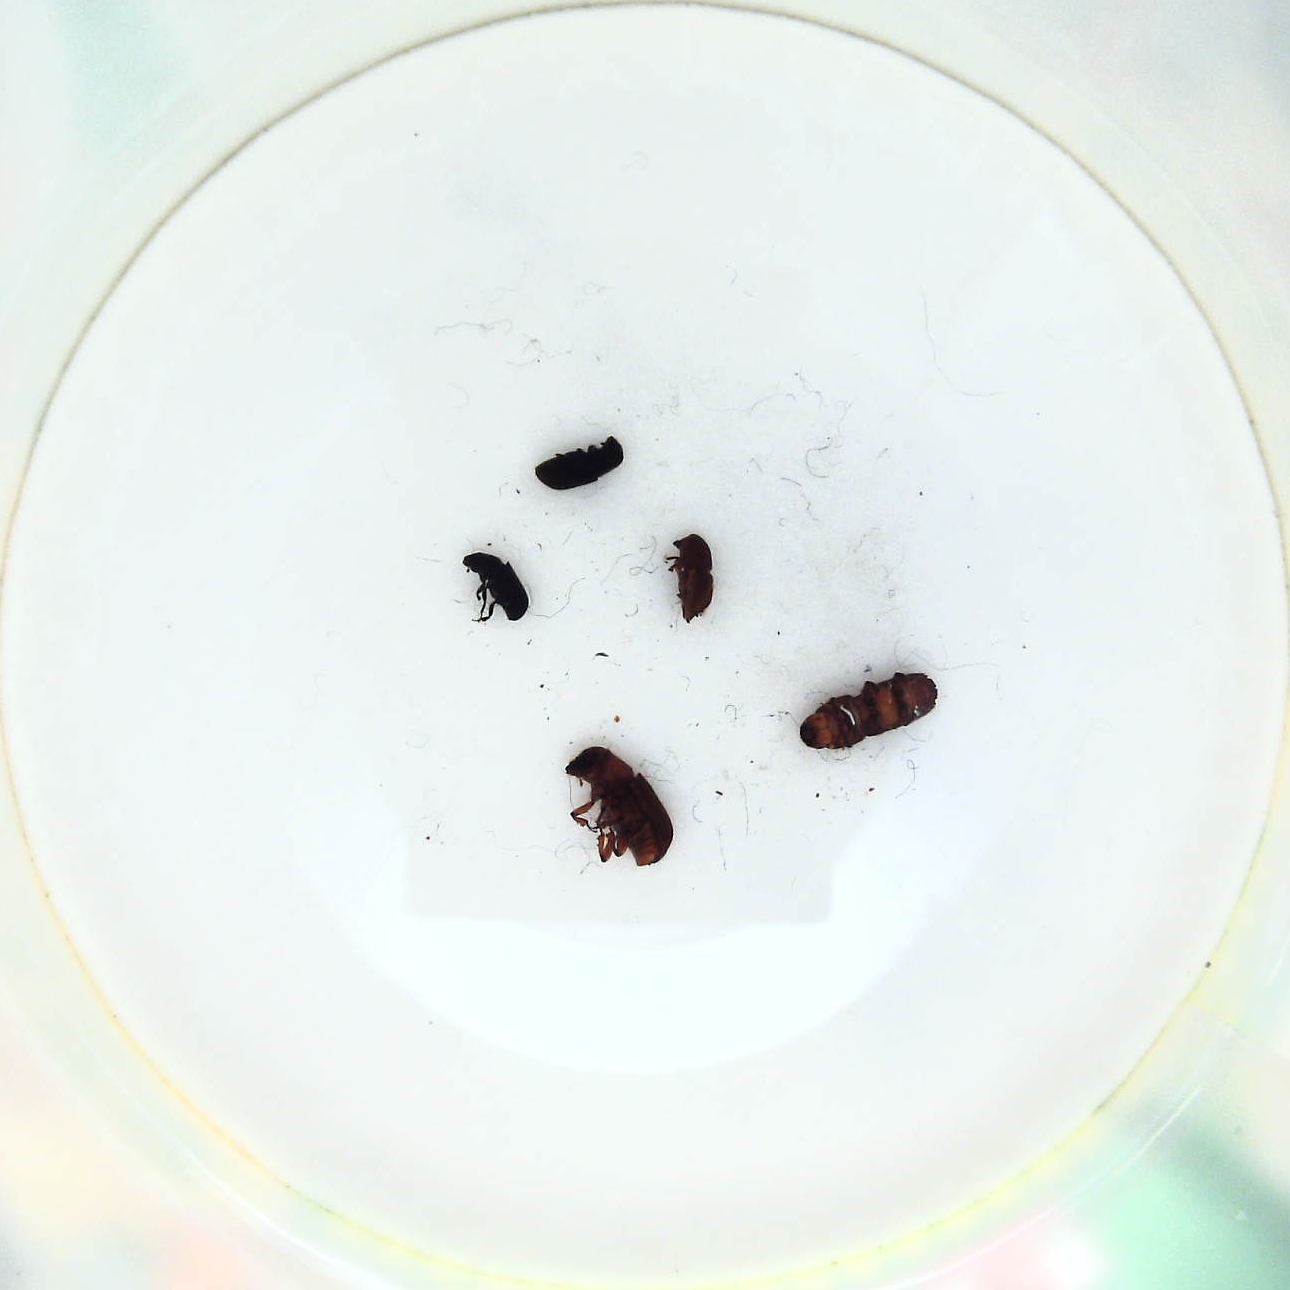Boerner: (794, 667, 942, 758)
Leconte: (558, 741, 677, 875)
armandi: (530, 438, 631, 494)
coleoptera: (458, 543, 530, 633)
linnaeus: (660, 529, 721, 626)
